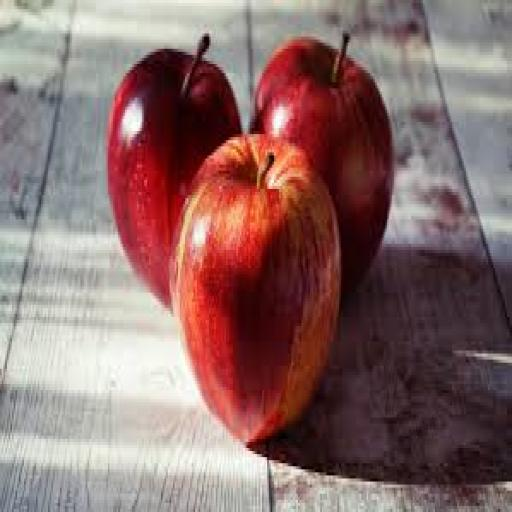Apple: (172, 135, 340, 441), (252, 37, 393, 292), (108, 37, 241, 304)
